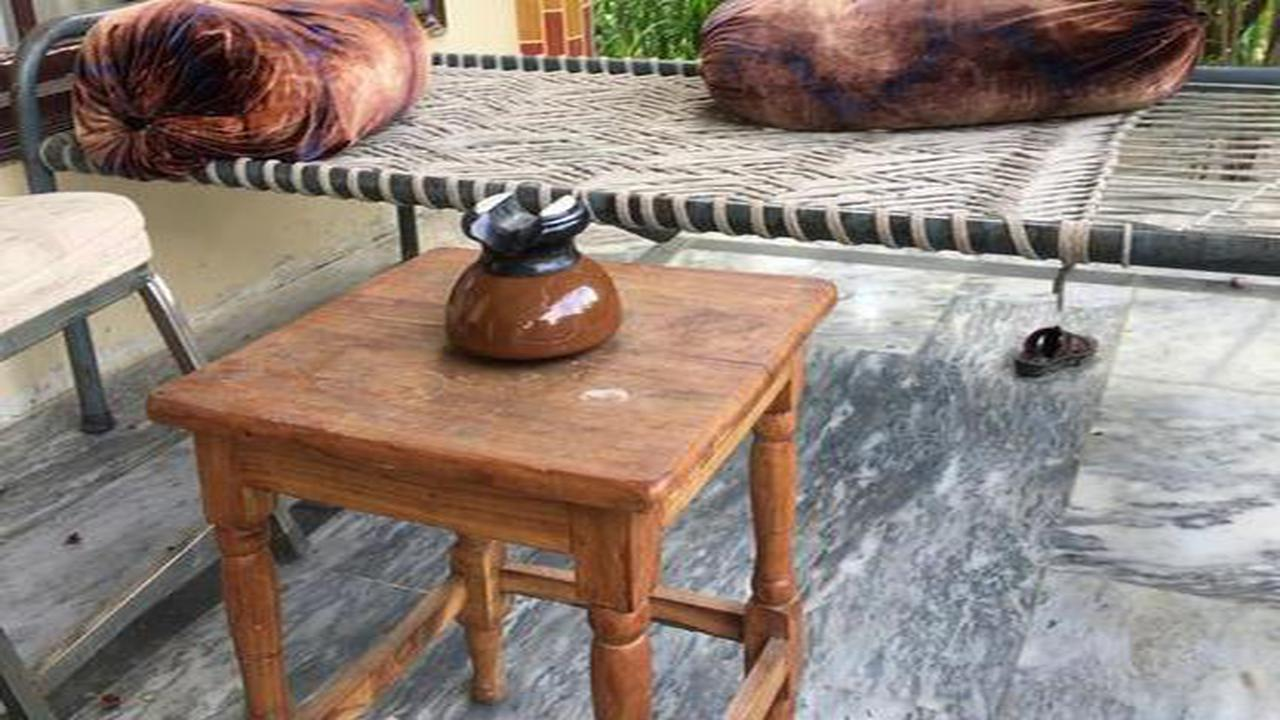insulator_pin: (431, 176, 641, 373)
